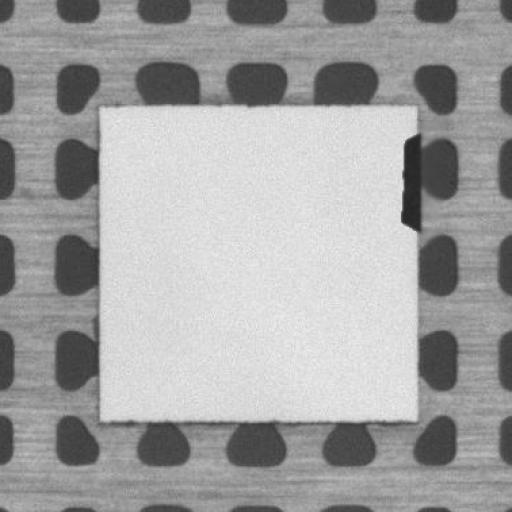DIE_BROKEN: (396, 127, 422, 238)
